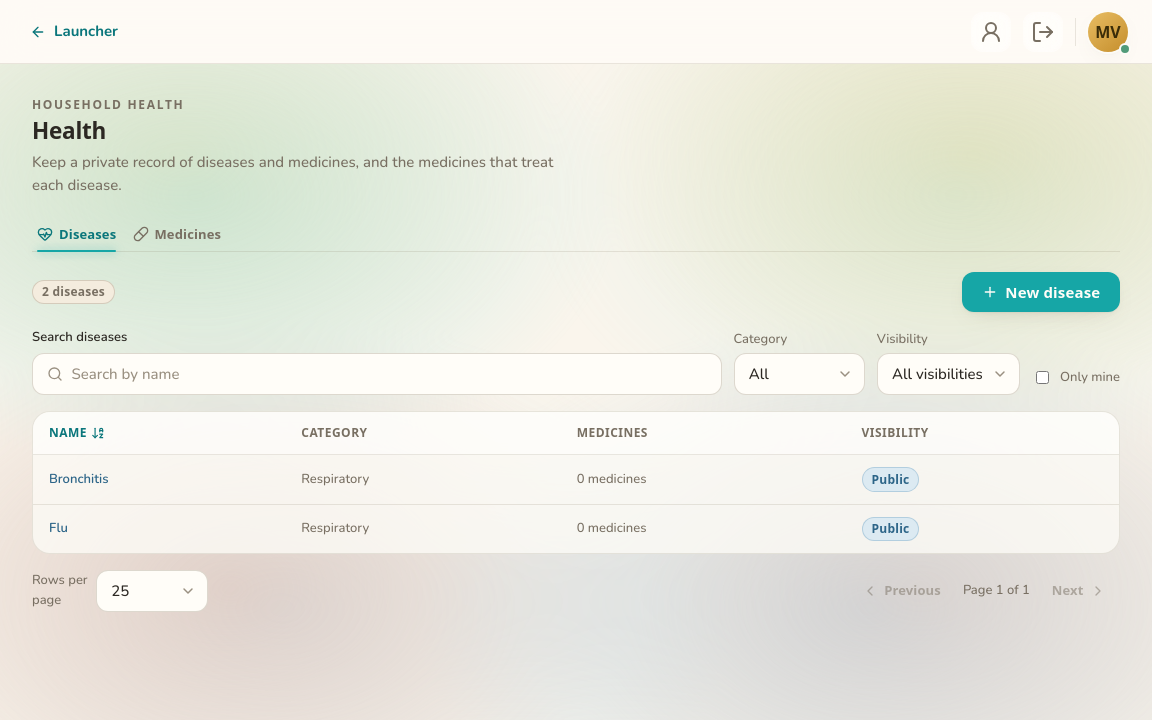
Health page — diseases tab › filters the list by name through the query
Expected: the button "Bronchitis" is shown, [49,470,108,489]
Type "Flu" into the field labelled "Search diseases". click: (389, 374)
box: [72,356,707,394]
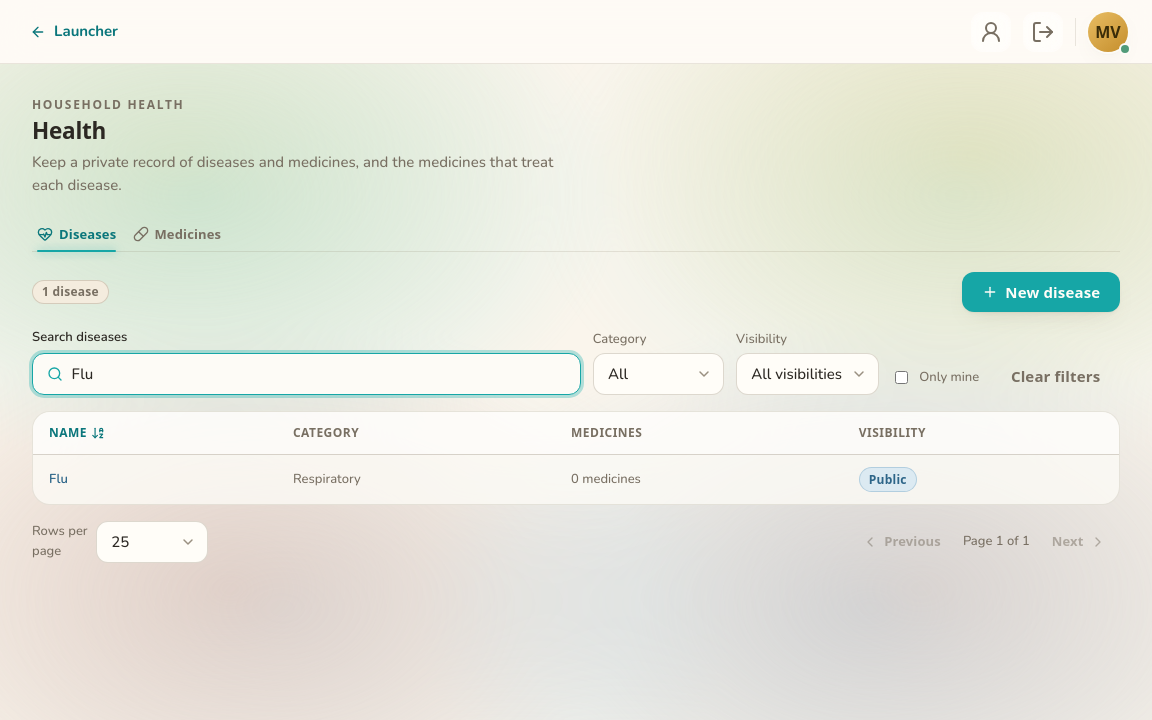
Expected: the button "Flu" is shown, [49,470,68,489]
Result: the button "Bronchitis" is gone
